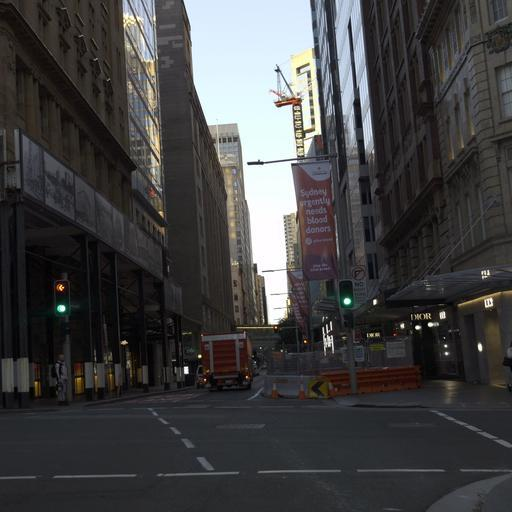Street light: (246, 151, 358, 393), (246, 152, 337, 166), (53, 278, 70, 317), (337, 278, 355, 309), (119, 338, 128, 390)
